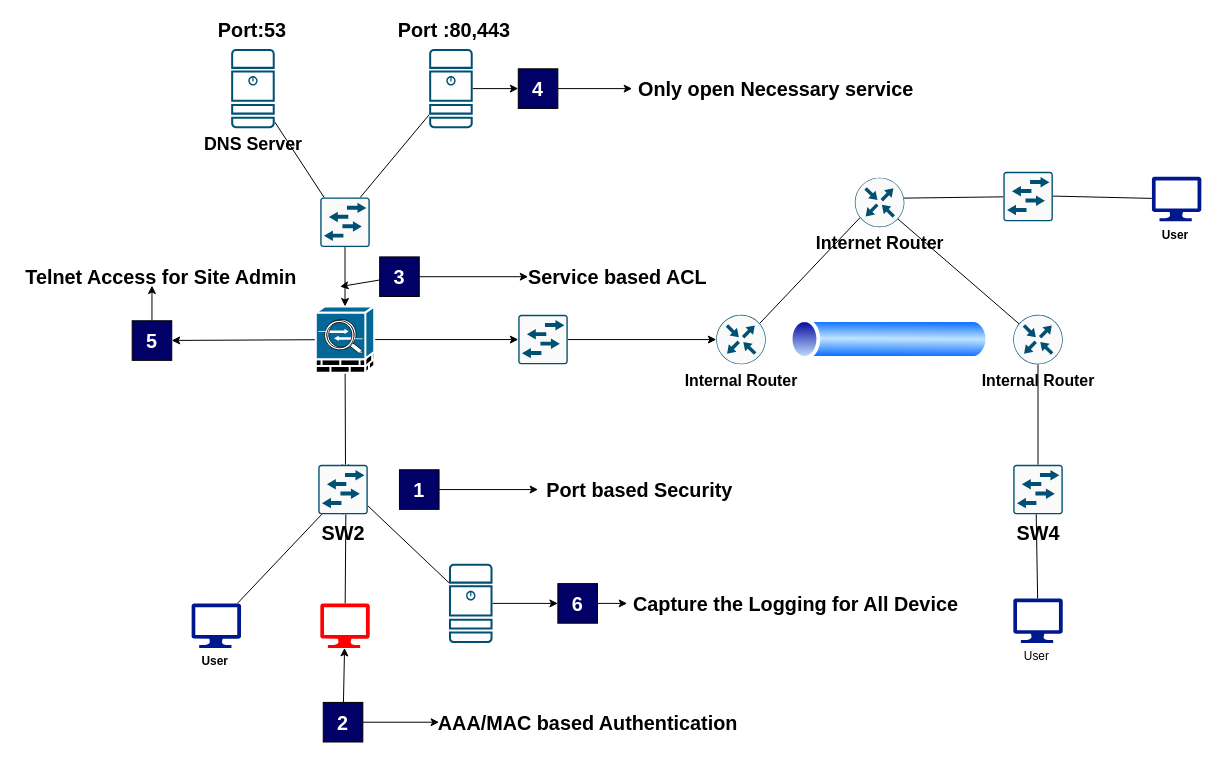
This 1218x759 diagram has some shape labels left out. Here are the shapes that lost their labels. From the top down, the centre of each, then its label:
the point at 450,88: Web Server
the point at 1027,196: SW5
the point at 344,222: SW1
the point at 344,339: ASA Firewall
the point at 542,339: SW3
the point at 889,339: VPN Tunnel
the point at 470,603: Syslog Server
the point at 344,625: Site Admin
